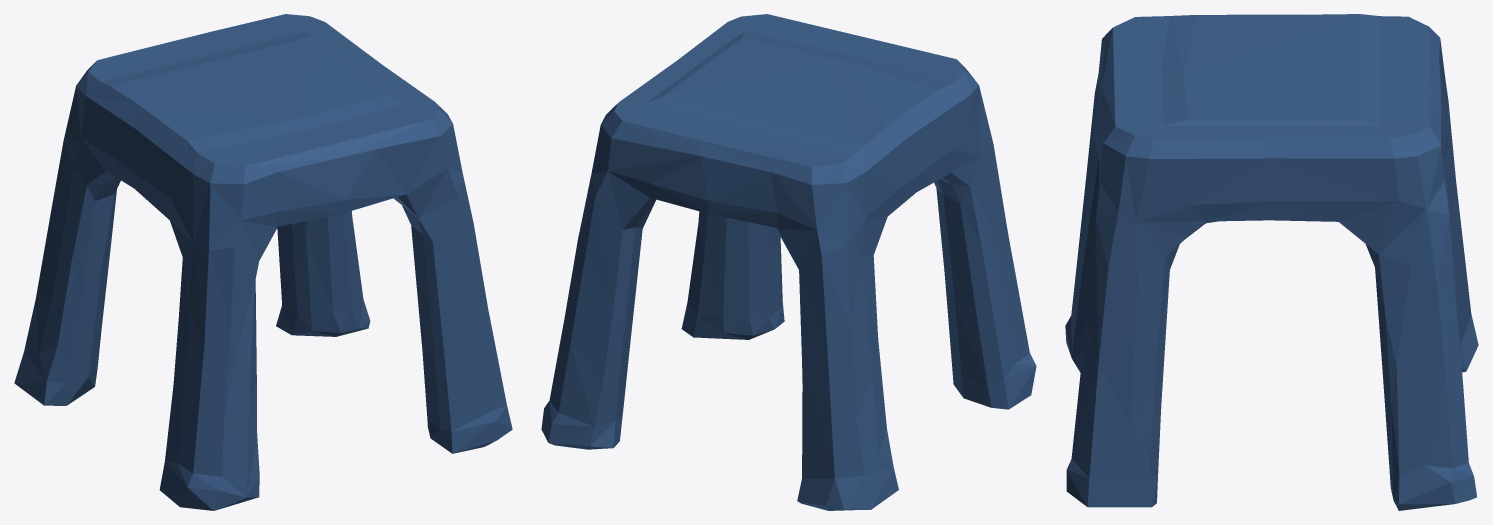
The model's file is stool.glb.
The picture shows the model from 3 angles, left to right: view 1: azimuth 30°, elevation 25°; view 2: azimuth 150°, elevation 25°; view 3: azimuth 270°, elevation 25°; orthographic projection. The views are drawn at different scales.
Visible parts, largest first — view 1: StoolPilot; view 2: StoolPilot; view 3: StoolPilot.
Boxes of the visible parts, x1=… form: StoolPilot: x1=14, y1=14, x2=512, y2=510; StoolPilot: x1=541, y1=14, x2=1036, y2=510; StoolPilot: x1=1065, y1=14, x2=1478, y2=510.
Bounding box in the file's own units: 0.55 × 0.52 × 0.55.
